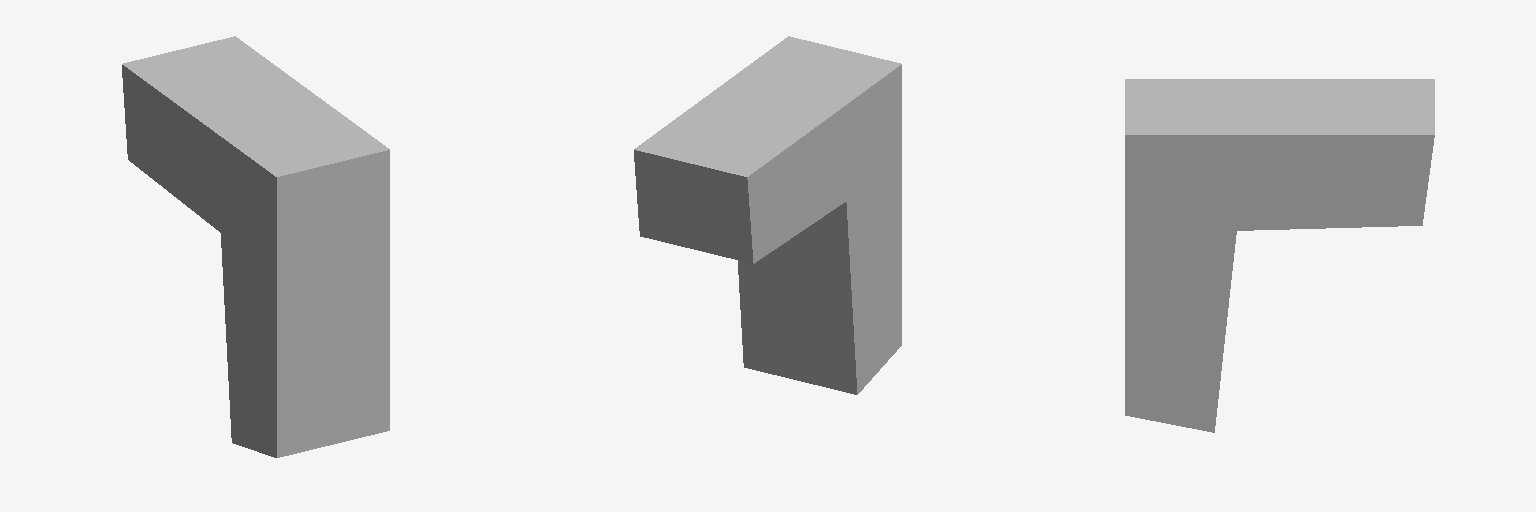
The model's file is machinegun.obj.
The picture shows the model from 3 angles: view 1: azimuth 30°, elevation 25°; view 2: azimuth 150°, elevation 25°; view 3: azimuth 270°, elevation 25°; orthographic projection.
Parts seen in each view (by area): view 1: Cube_Cube.001; view 2: Cube_Cube.001; view 3: Cube_Cube.001.
Part boxes in pixels (x1,y1,x2,y2): Cube_Cube.001: (122, 36, 389, 457); Cube_Cube.001: (634, 36, 901, 394); Cube_Cube.001: (1125, 79, 1434, 432).
Bounding box in the file's own units: 0.847 × 2.12 × 2.